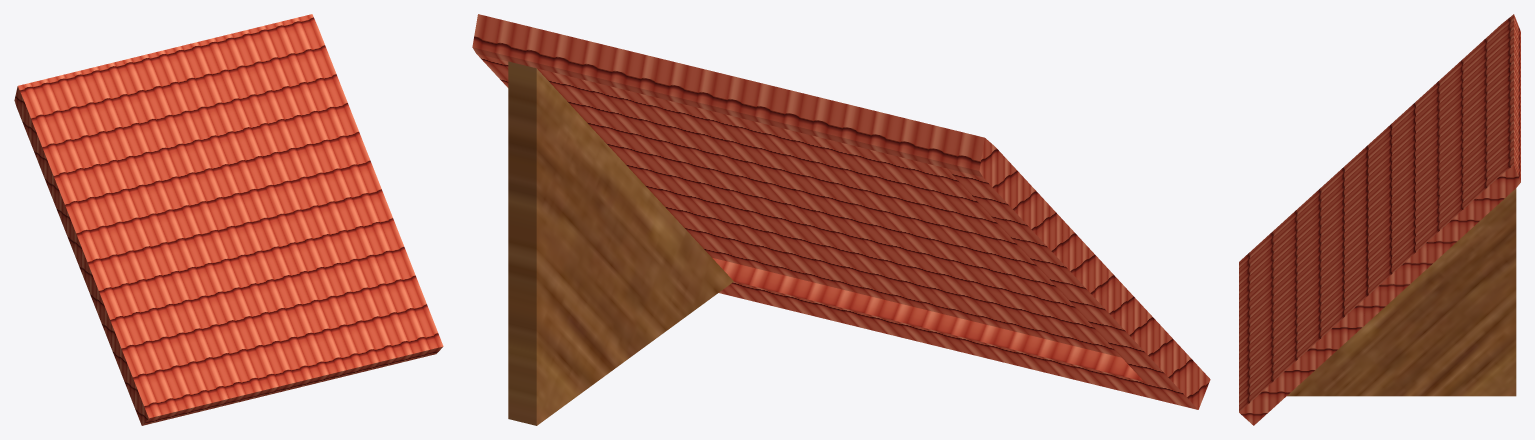
The model's file is roof_right.fbx.
3 renders of one model, left to right at view 1: azimuth 30°, elevation 25°; view 2: azimuth 150°, elevation 25°; view 3: azimuth 270°, elevation 25°, orthographic. The views are drawn at different scales.
Parts seen in each view (by area): view 1: Cube.027; view 2: Cube.027, Cube.029; view 3: Cube.027, Cube.029.
Part boxes in pixels (box(x1,y1,x2,y2)): Cube.027: box(14, 14, 443, 425); Cube.027: box(472, 14, 1210, 409); Cube.029: box(508, 61, 733, 425); Cube.027: box(1239, 14, 1520, 425); Cube.029: box(1287, 188, 1516, 396).
Bounding box in the file's own units: 297 × 240 × 234.
2 materials, 2 textured.
